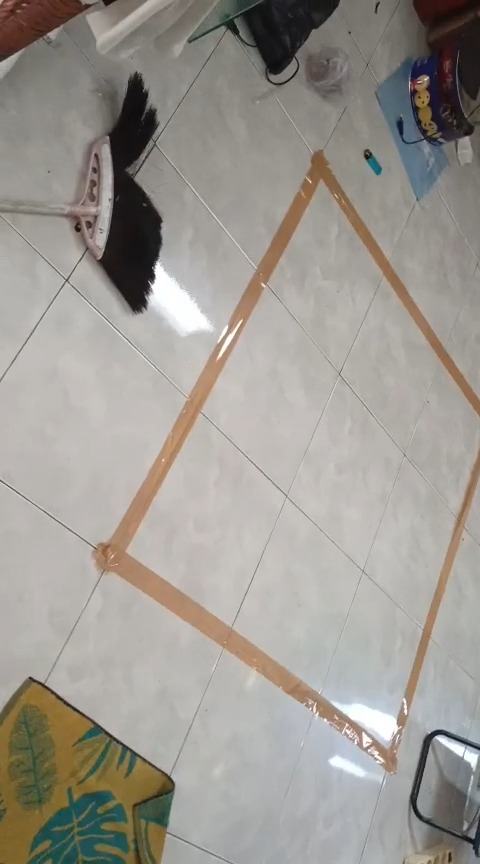floor marking: (95, 151, 479, 772)
